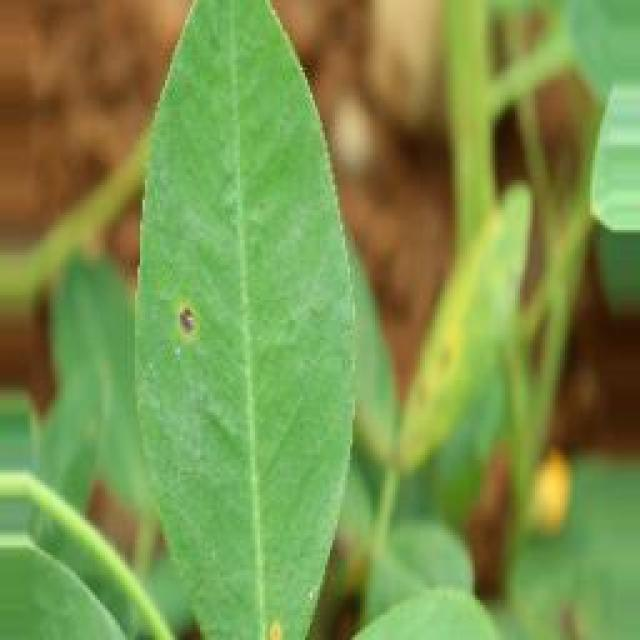Sigatoka: (152, 293, 240, 377), (230, 600, 288, 640)
